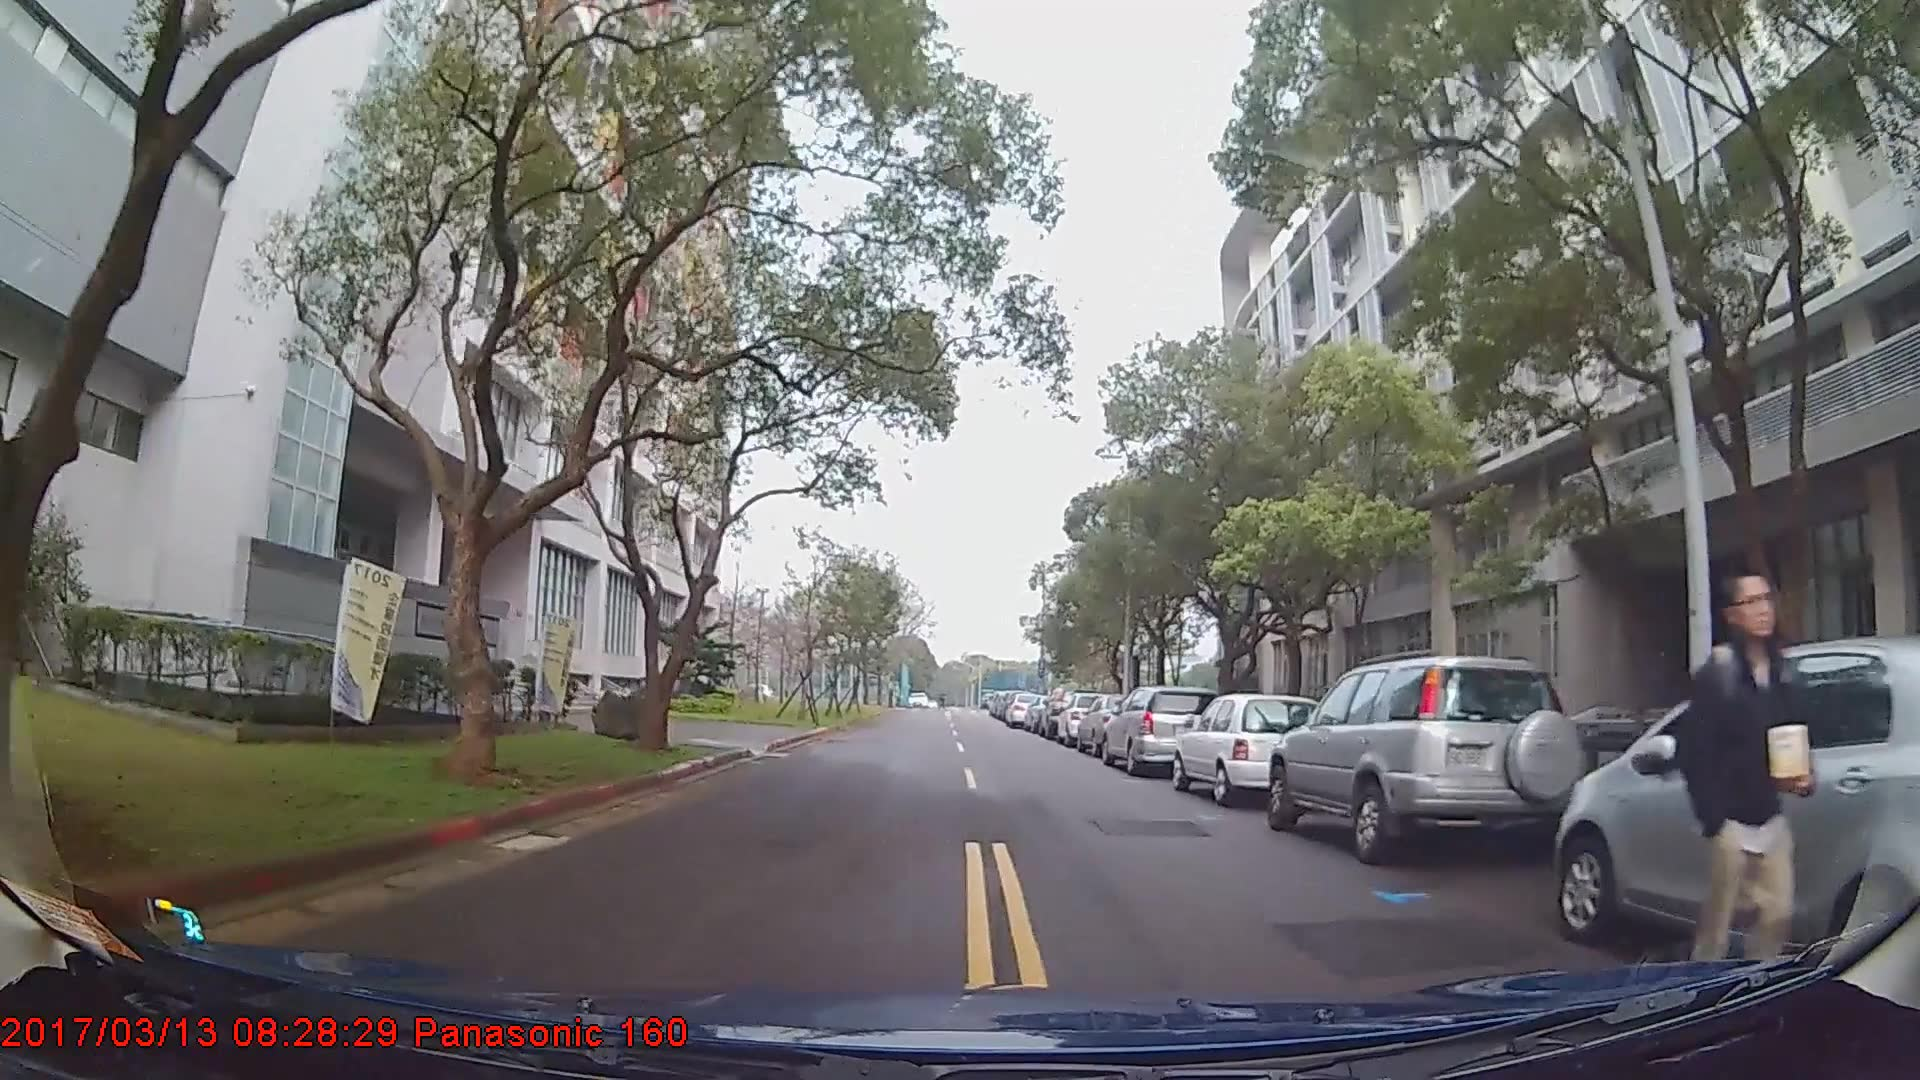pedestrian: (1677, 570, 1795, 1023)
vehicle: (1555, 633, 1920, 981), (1267, 650, 1589, 866), (1170, 691, 1325, 804), (1100, 683, 1221, 775), (1003, 689, 1045, 728)
